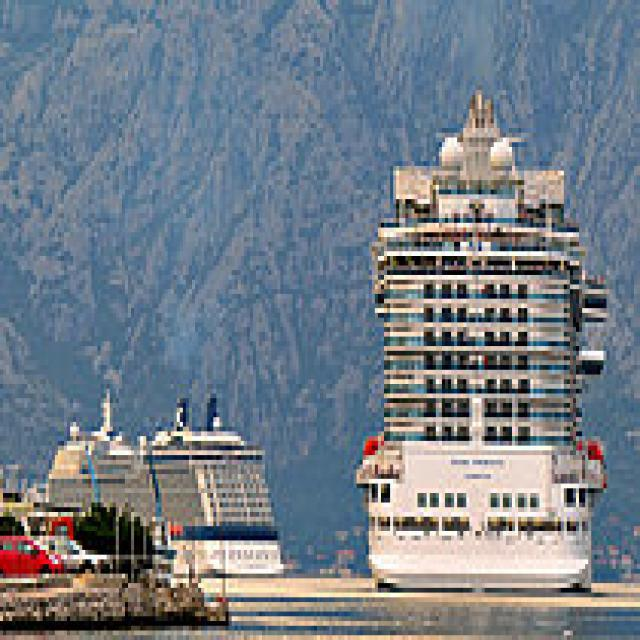Ship: (358, 68, 611, 613), (50, 380, 300, 570)
